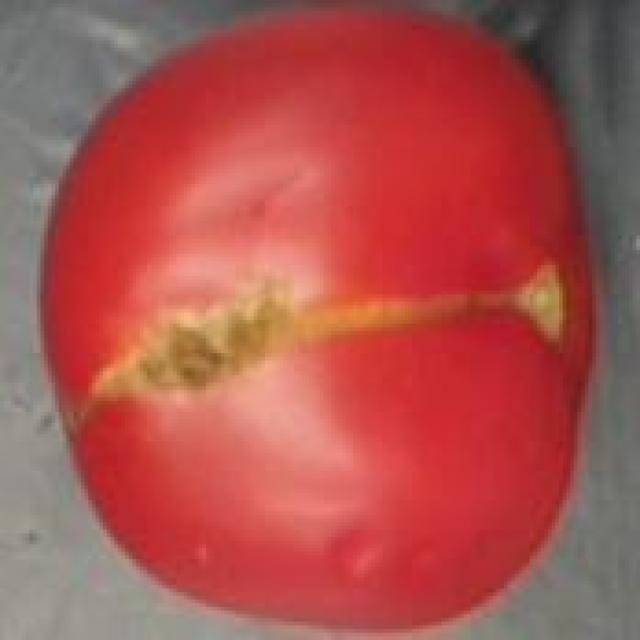overripe tomato: (29, 0, 604, 640)
